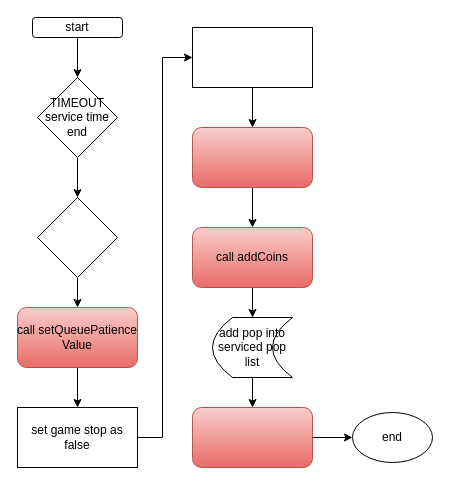
The diagram is 450 pixels wide and 485 high, and some of its shapes have lost their labels. The centre of each missing label's shape, as x and y in pixels:
"call moveQueue" belongs at (x=252, y=437).
"call setAnimation" belongs at (x=252, y=157).
"construct the pop service anim req object" belongs at (x=252, y=57).
"IF pop queue patience triggered" belongs at (x=77, y=237).
